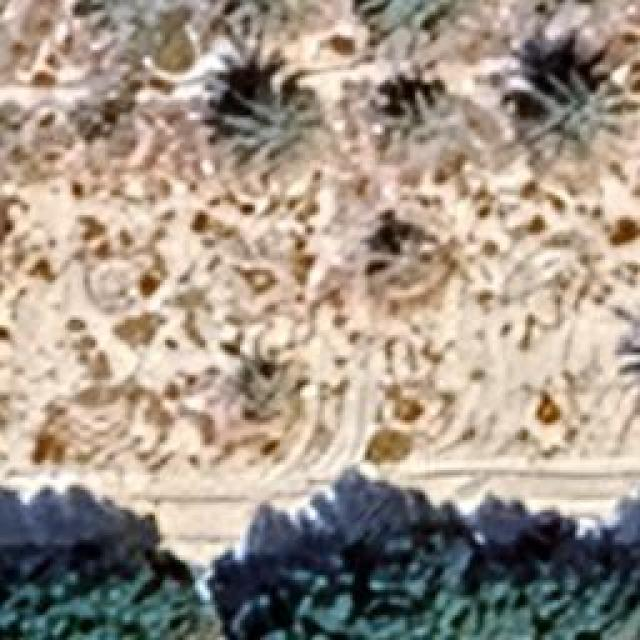PalmTree: (83, 33, 276, 386), (512, 65, 638, 155), (225, 77, 325, 185), (374, 74, 458, 164), (366, 215, 452, 298), (352, 2, 470, 56), (202, 4, 306, 48), (614, 320, 640, 421), (620, 323, 640, 421)
